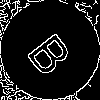B: (25, 25, 82, 79)
